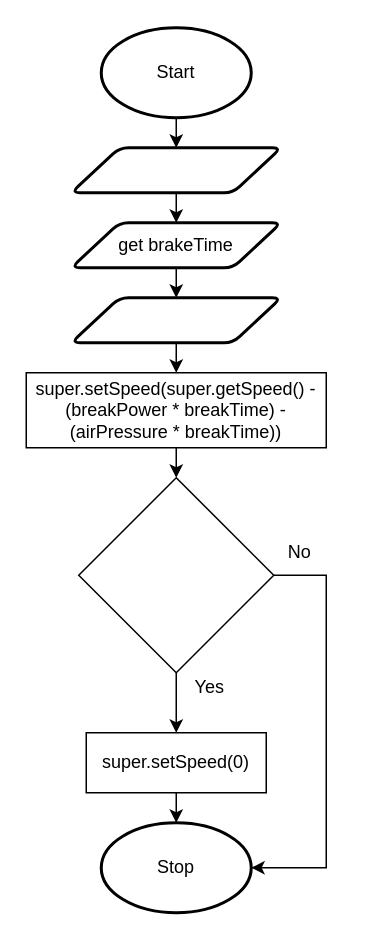
Some shapes in this 365 by 939 pixel diagram are drawn without their labels. The shapes that lost their labels are listed below. From the top down, each one's centre as x and y in pixels, then its label:
pixel 175 170: get brakePower
pixel 175 320: get airPressure
pixel 175 574: if super.getSpeed() < 0
